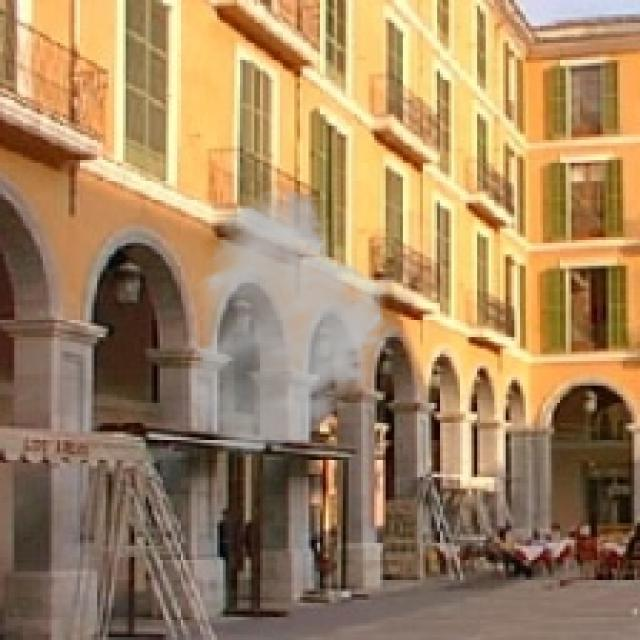Smoke: (186, 185, 397, 460)
